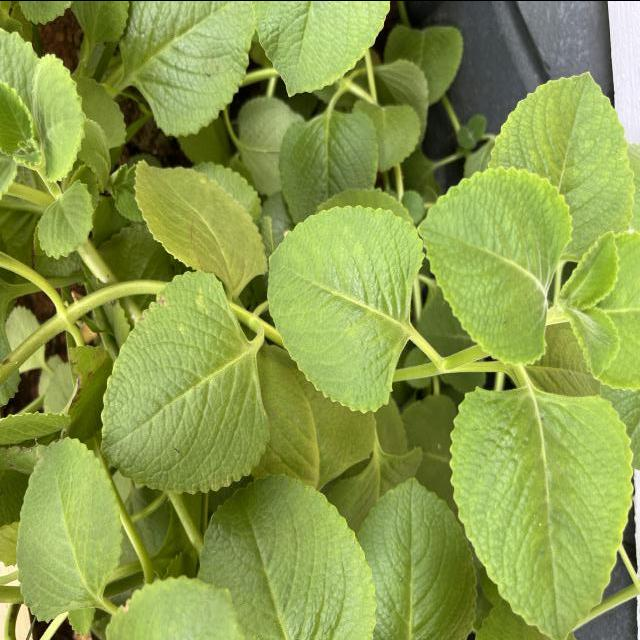Plectranthus barbatus: (99, 267, 274, 494), (266, 202, 426, 414), (415, 164, 574, 367), (194, 471, 379, 640), (488, 70, 636, 232), (15, 434, 125, 624), (356, 474, 478, 640), (117, 0, 255, 139), (132, 157, 268, 285), (31, 51, 87, 182), (556, 228, 620, 304), (36, 178, 94, 260), (562, 304, 621, 380)
